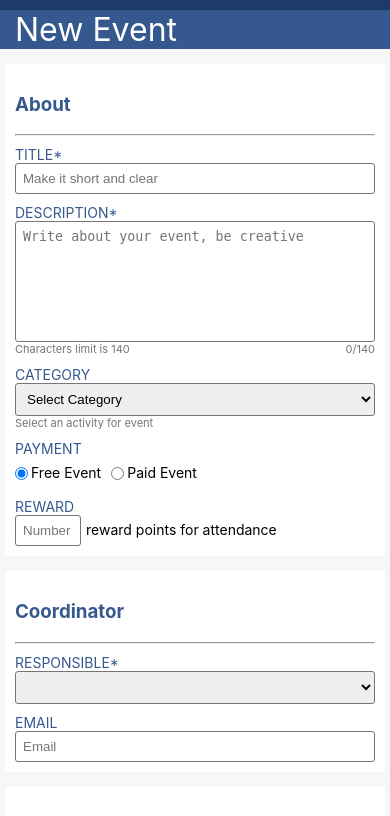
Test: should show description error on breaking char limit
Type "     testtesttesttesttesttesttesttesttesttesttesttest     testtesttesttesttesttesttesttesttesttesttesttest     testtesttesttesttesttesttesttesttesttesttesttest " into the text box with placeholder "Write about your event, be creative".
click(195, 282); type("     testtesttesttesttesttesttesttesttesttesttesttest     testtesttesttesttesttesttesttesttesttesttesttest     testtesttesttesttesttesttesttesttesttesttesttest ")  # box [15,221,375,342]
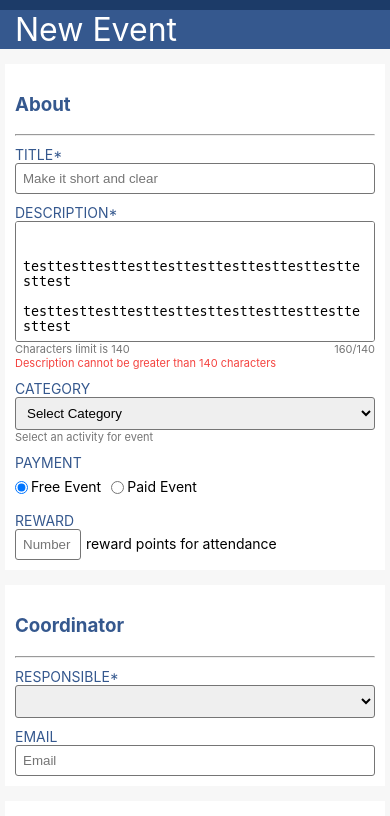
expect the text with test id "form-field-error-ipad-Description" reads "Description cannot be greater than 140 characters": met, box [15,356,276,370]
